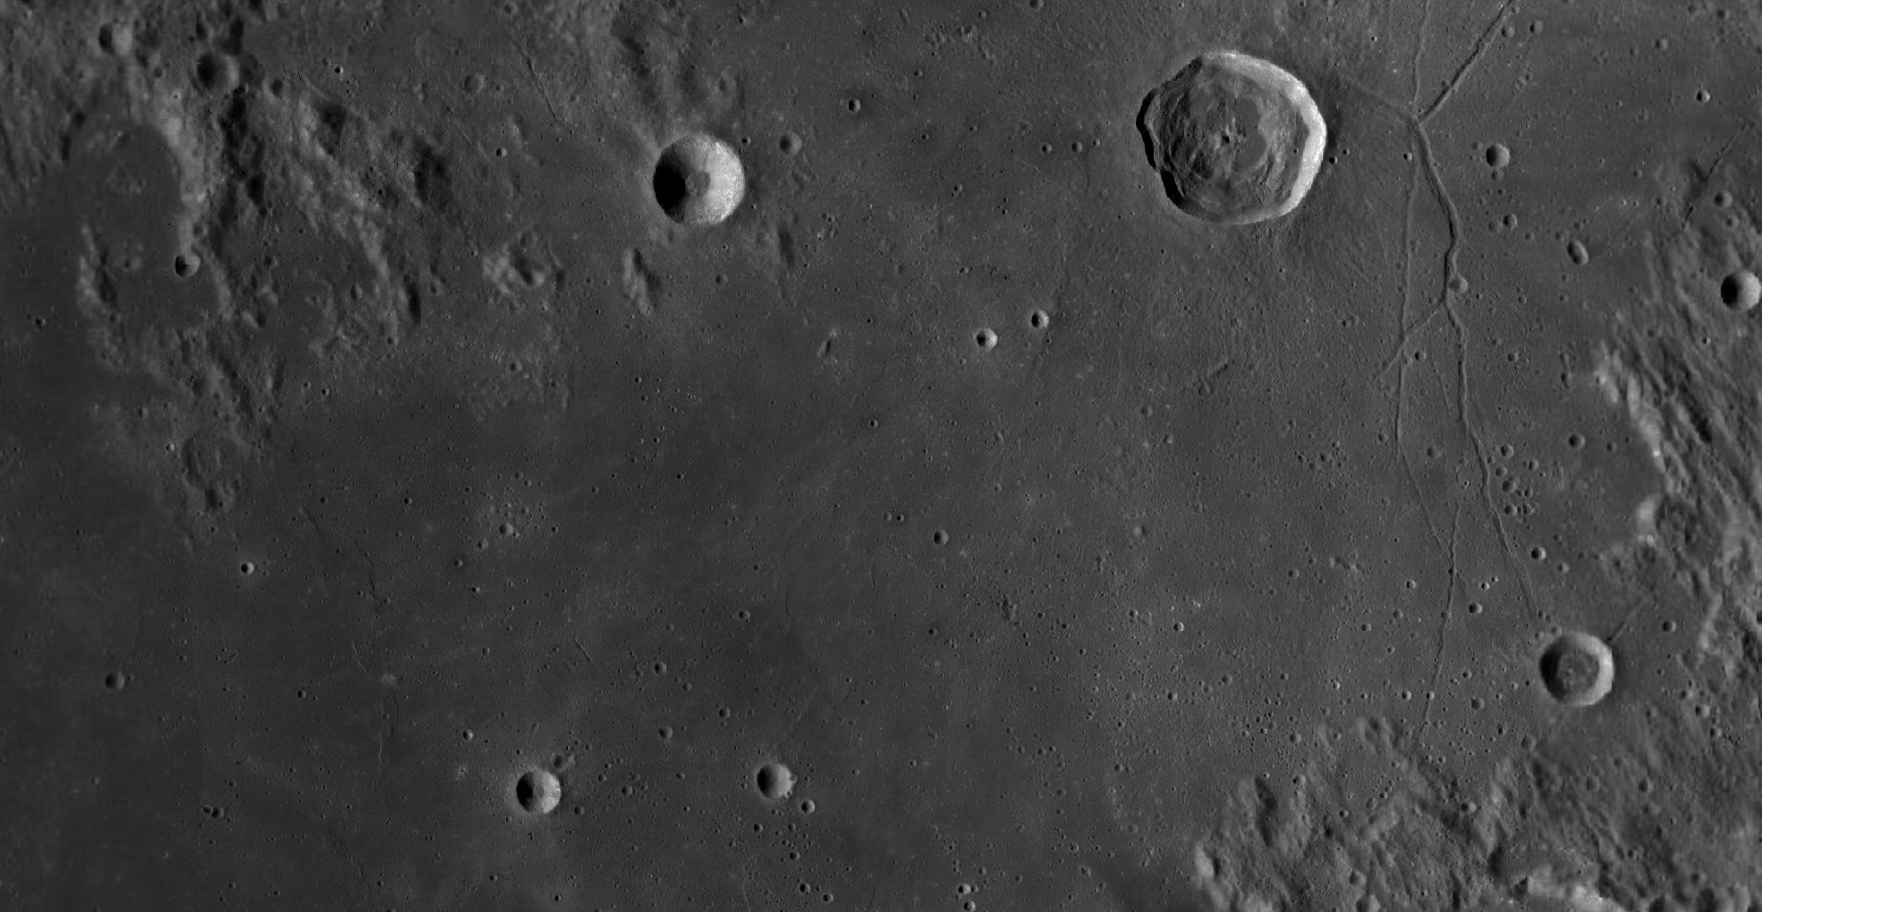crater: (1095, 32, 1358, 270), (610, 100, 773, 270), (1513, 613, 1634, 729), (491, 750, 594, 839), (721, 751, 803, 824), (1023, 303, 1079, 356)
